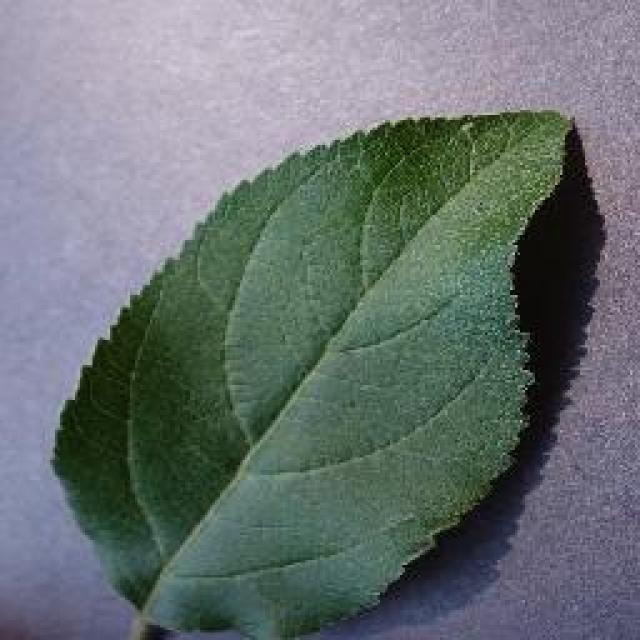apple healthy: (48, 105, 580, 637)
